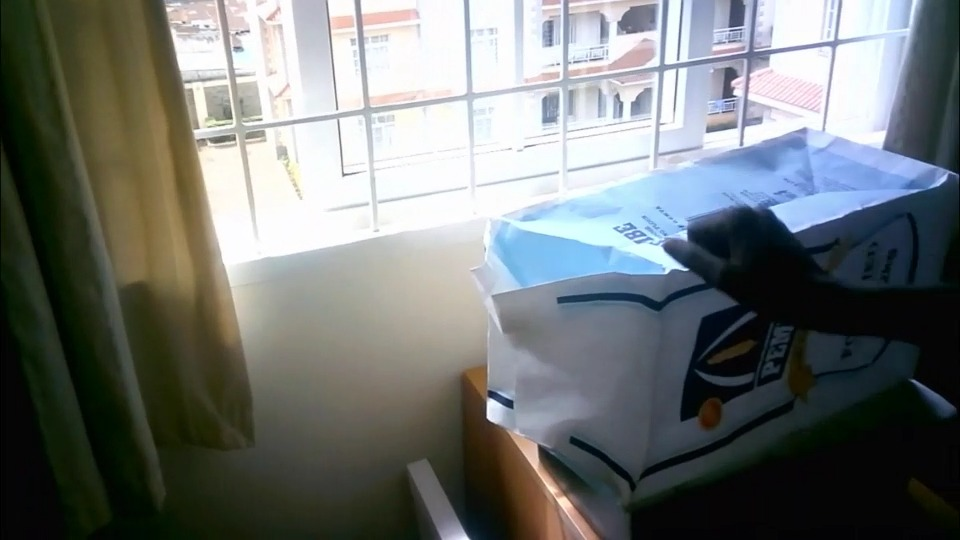wheat_flour_blue_label: (484, 127, 957, 499)
